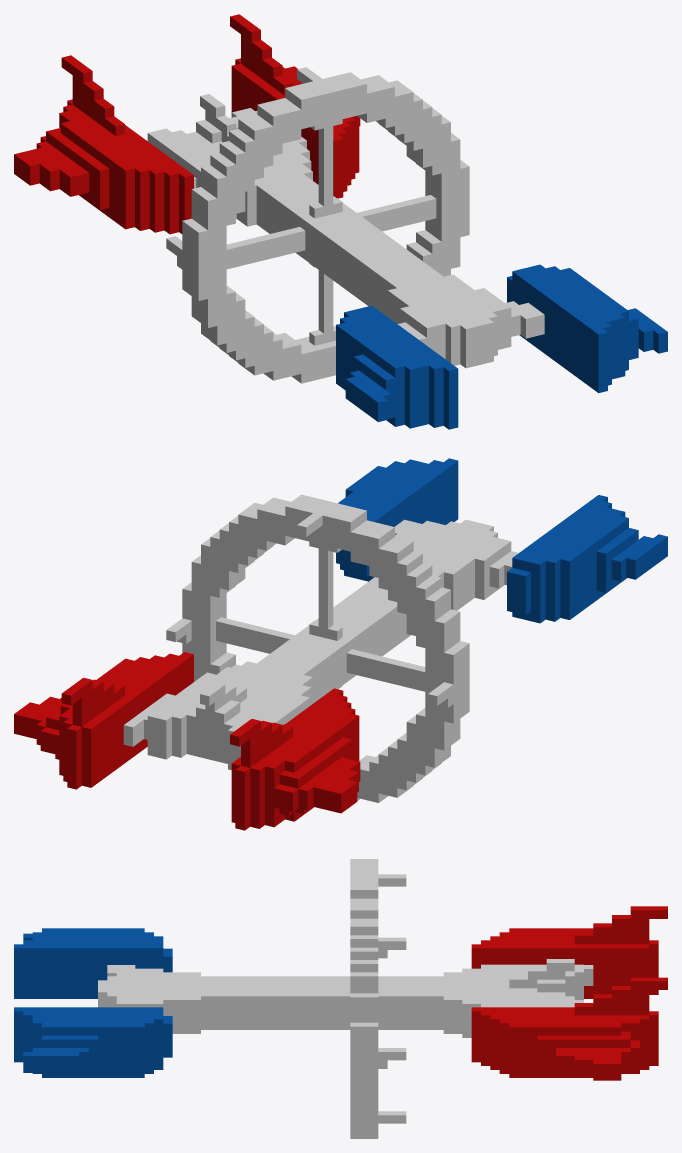
File: Form10fbx.fbx
The picture shows the model from 3 angles, top to bottom: view 1: azimuth 30°, elevation 25°; view 2: azimuth 150°, elevation 25°; view 3: azimuth 270°, elevation 25°; orthographic projection. The views are drawn at different scales.
Parts seen in each view (by area): view 1: 物件_1; view 2: 物件_1; view 3: 物件_1.
Boxes of the visible parts, x1,y1,x2,y2 form: 物件_1: (14, 14, 667, 429); 物件_1: (14, 458, 667, 830); 物件_1: (14, 859, 667, 1138).
Bounding box in the file's own units: 35 × 70 × 29.
